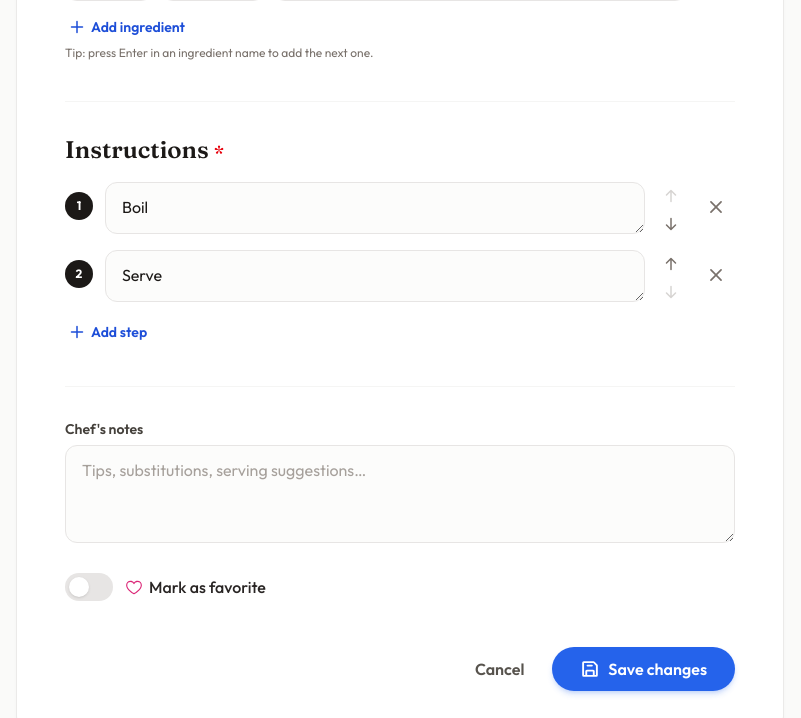
Test: edit recipe › shows server validation errors
The image size is (801, 718).
(page scrolled)
Click the button "Save changes" at x=644, y=669, box x1=552 y1=647 x2=735 y2=691
(page scrolled)
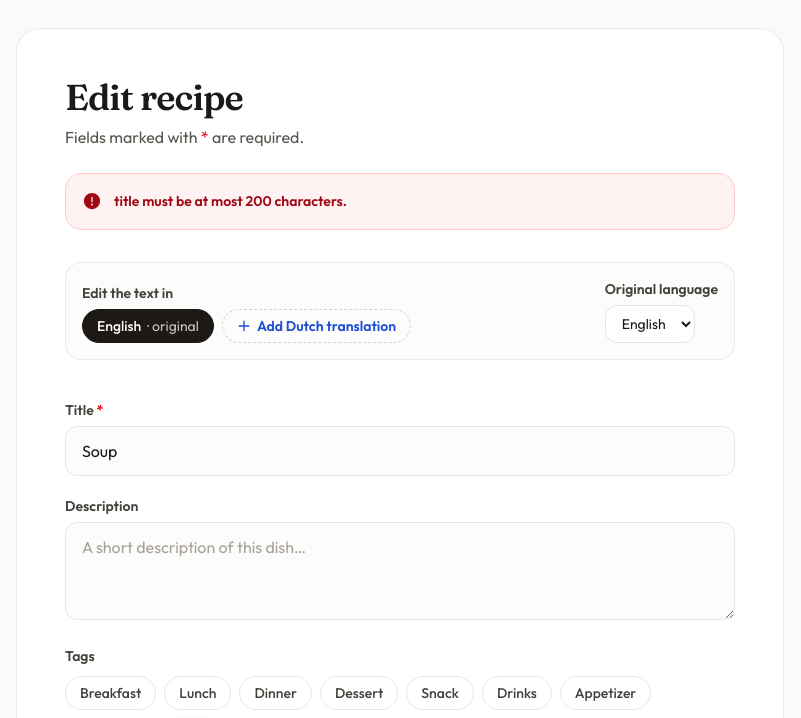
Expected: the text "title must be at most 200 characters." is shown, x1=114 y1=192 x2=347 y2=210
